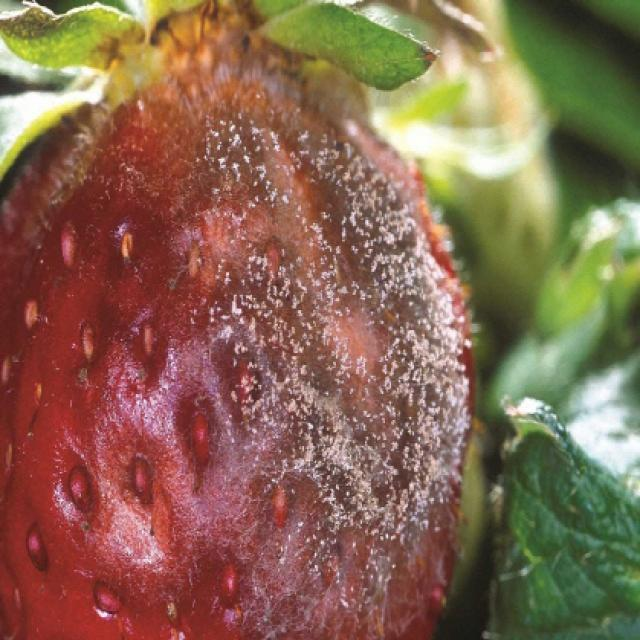Gray Mold: (0, 0, 480, 638)
